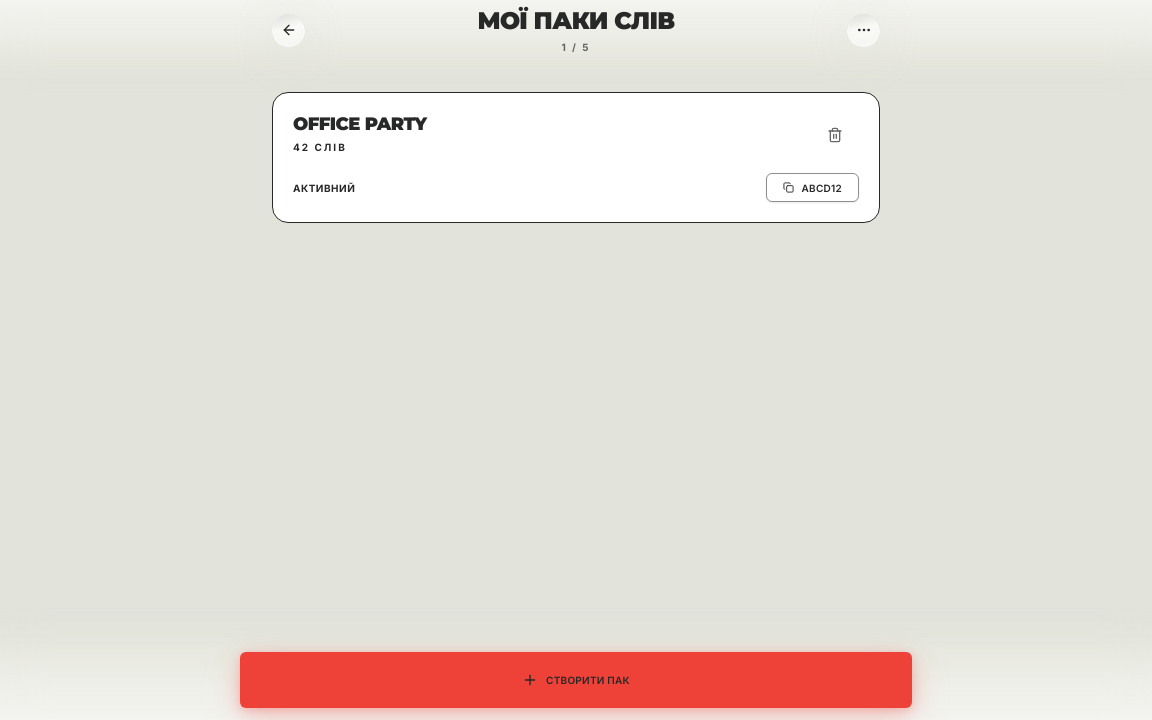
MyWordPacksScreen › should render deck list and open create view when unlocked
Expected: the heading "Office party" is shown, [293,113,426,135]
Click the button "Створити пак" at (576,680), box [240,652,912,708]
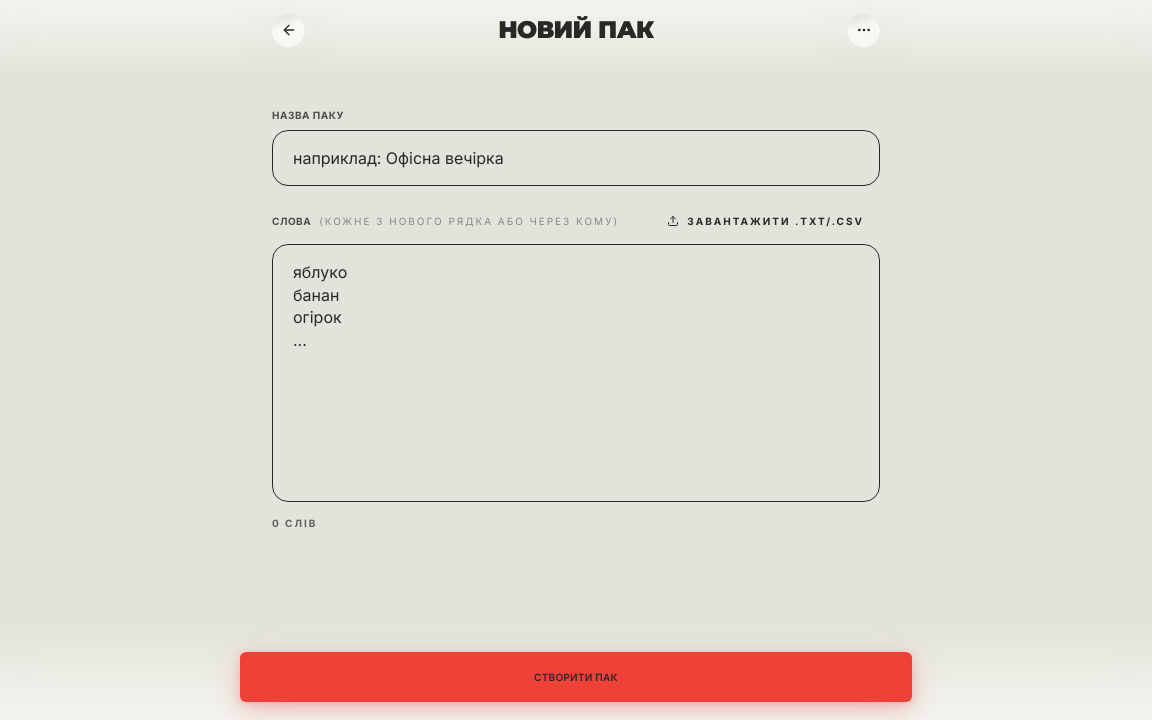
Result: the heading "Новий пак" is shown at [498,15,654,45]
Result: the field with placeholder "наприклад: Офісна вечірка" is shown at [272,130,880,186]
